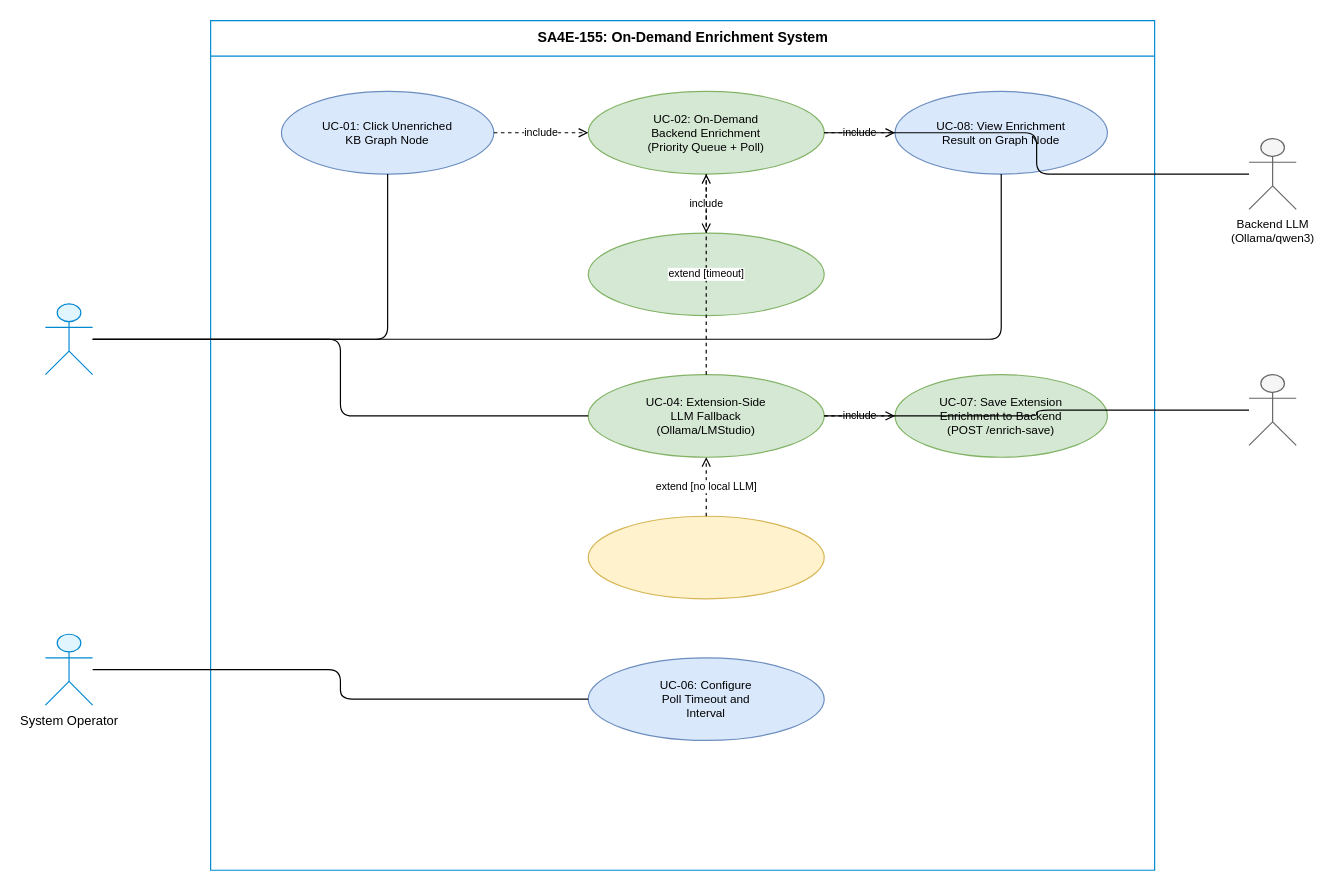
Image size: 1342x891. Some labels were removed from this diagram. The box of each missing label's shape, as (x1, y1, x2, y2) in pixels:
Developer: (44, 303, 93, 375)
Local LLM (Ollama/LMStudio): (1248, 373, 1296, 445)
UC-03: Priority-Aware Task Claiming (HIGH before NORMAL): (587, 232, 824, 316)
UC-05: Graceful Degradation (Queued Message): (587, 515, 824, 599)
